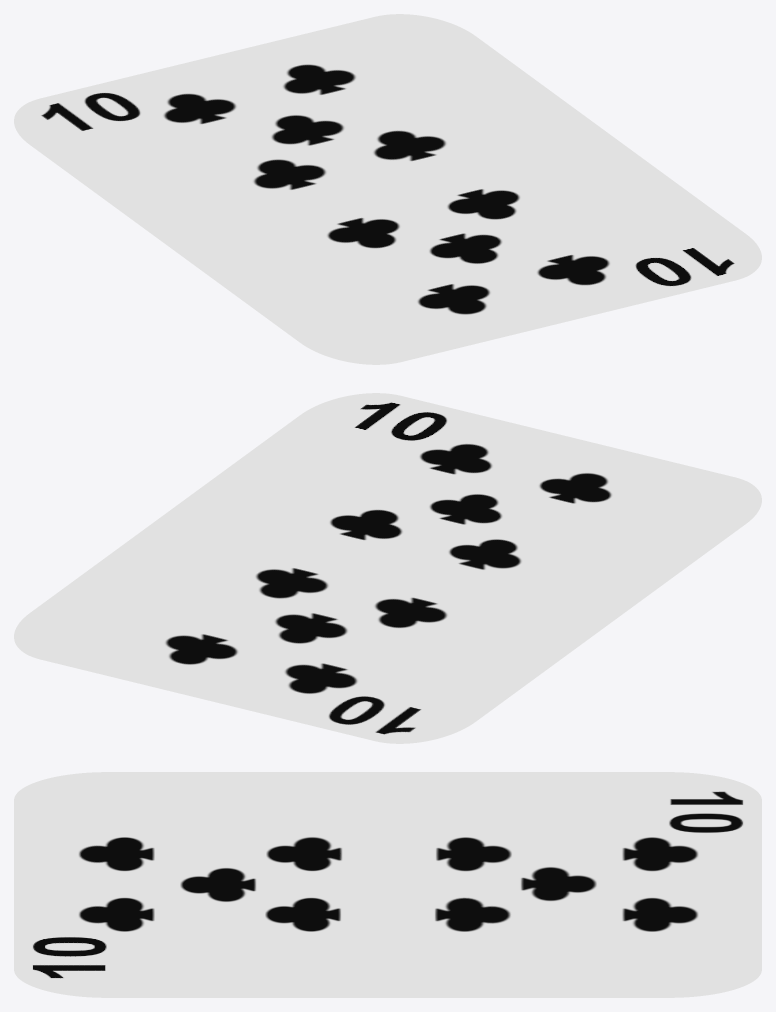
Rendered from Clubs10.fbx.
3 renders of one model, top to bottom at view 1: azimuth 30°, elevation 25°; view 2: azimuth 150°, elevation 25°; view 3: azimuth 270°, elevation 25°, orthographic. The views are drawn at different scales.
Visible parts, largest first — view 1: Plane.004; view 2: Plane.004; view 3: Plane.004.
Boxes of the visible parts, x1,y1,x2,y2 form: Plane.004: (14, 14, 761, 364); Plane.004: (14, 393, 761, 743); Plane.004: (14, 772, 761, 997).
Bounding box in the file's own units: 500 × 0 × 700.
1 material, 1 textured.
